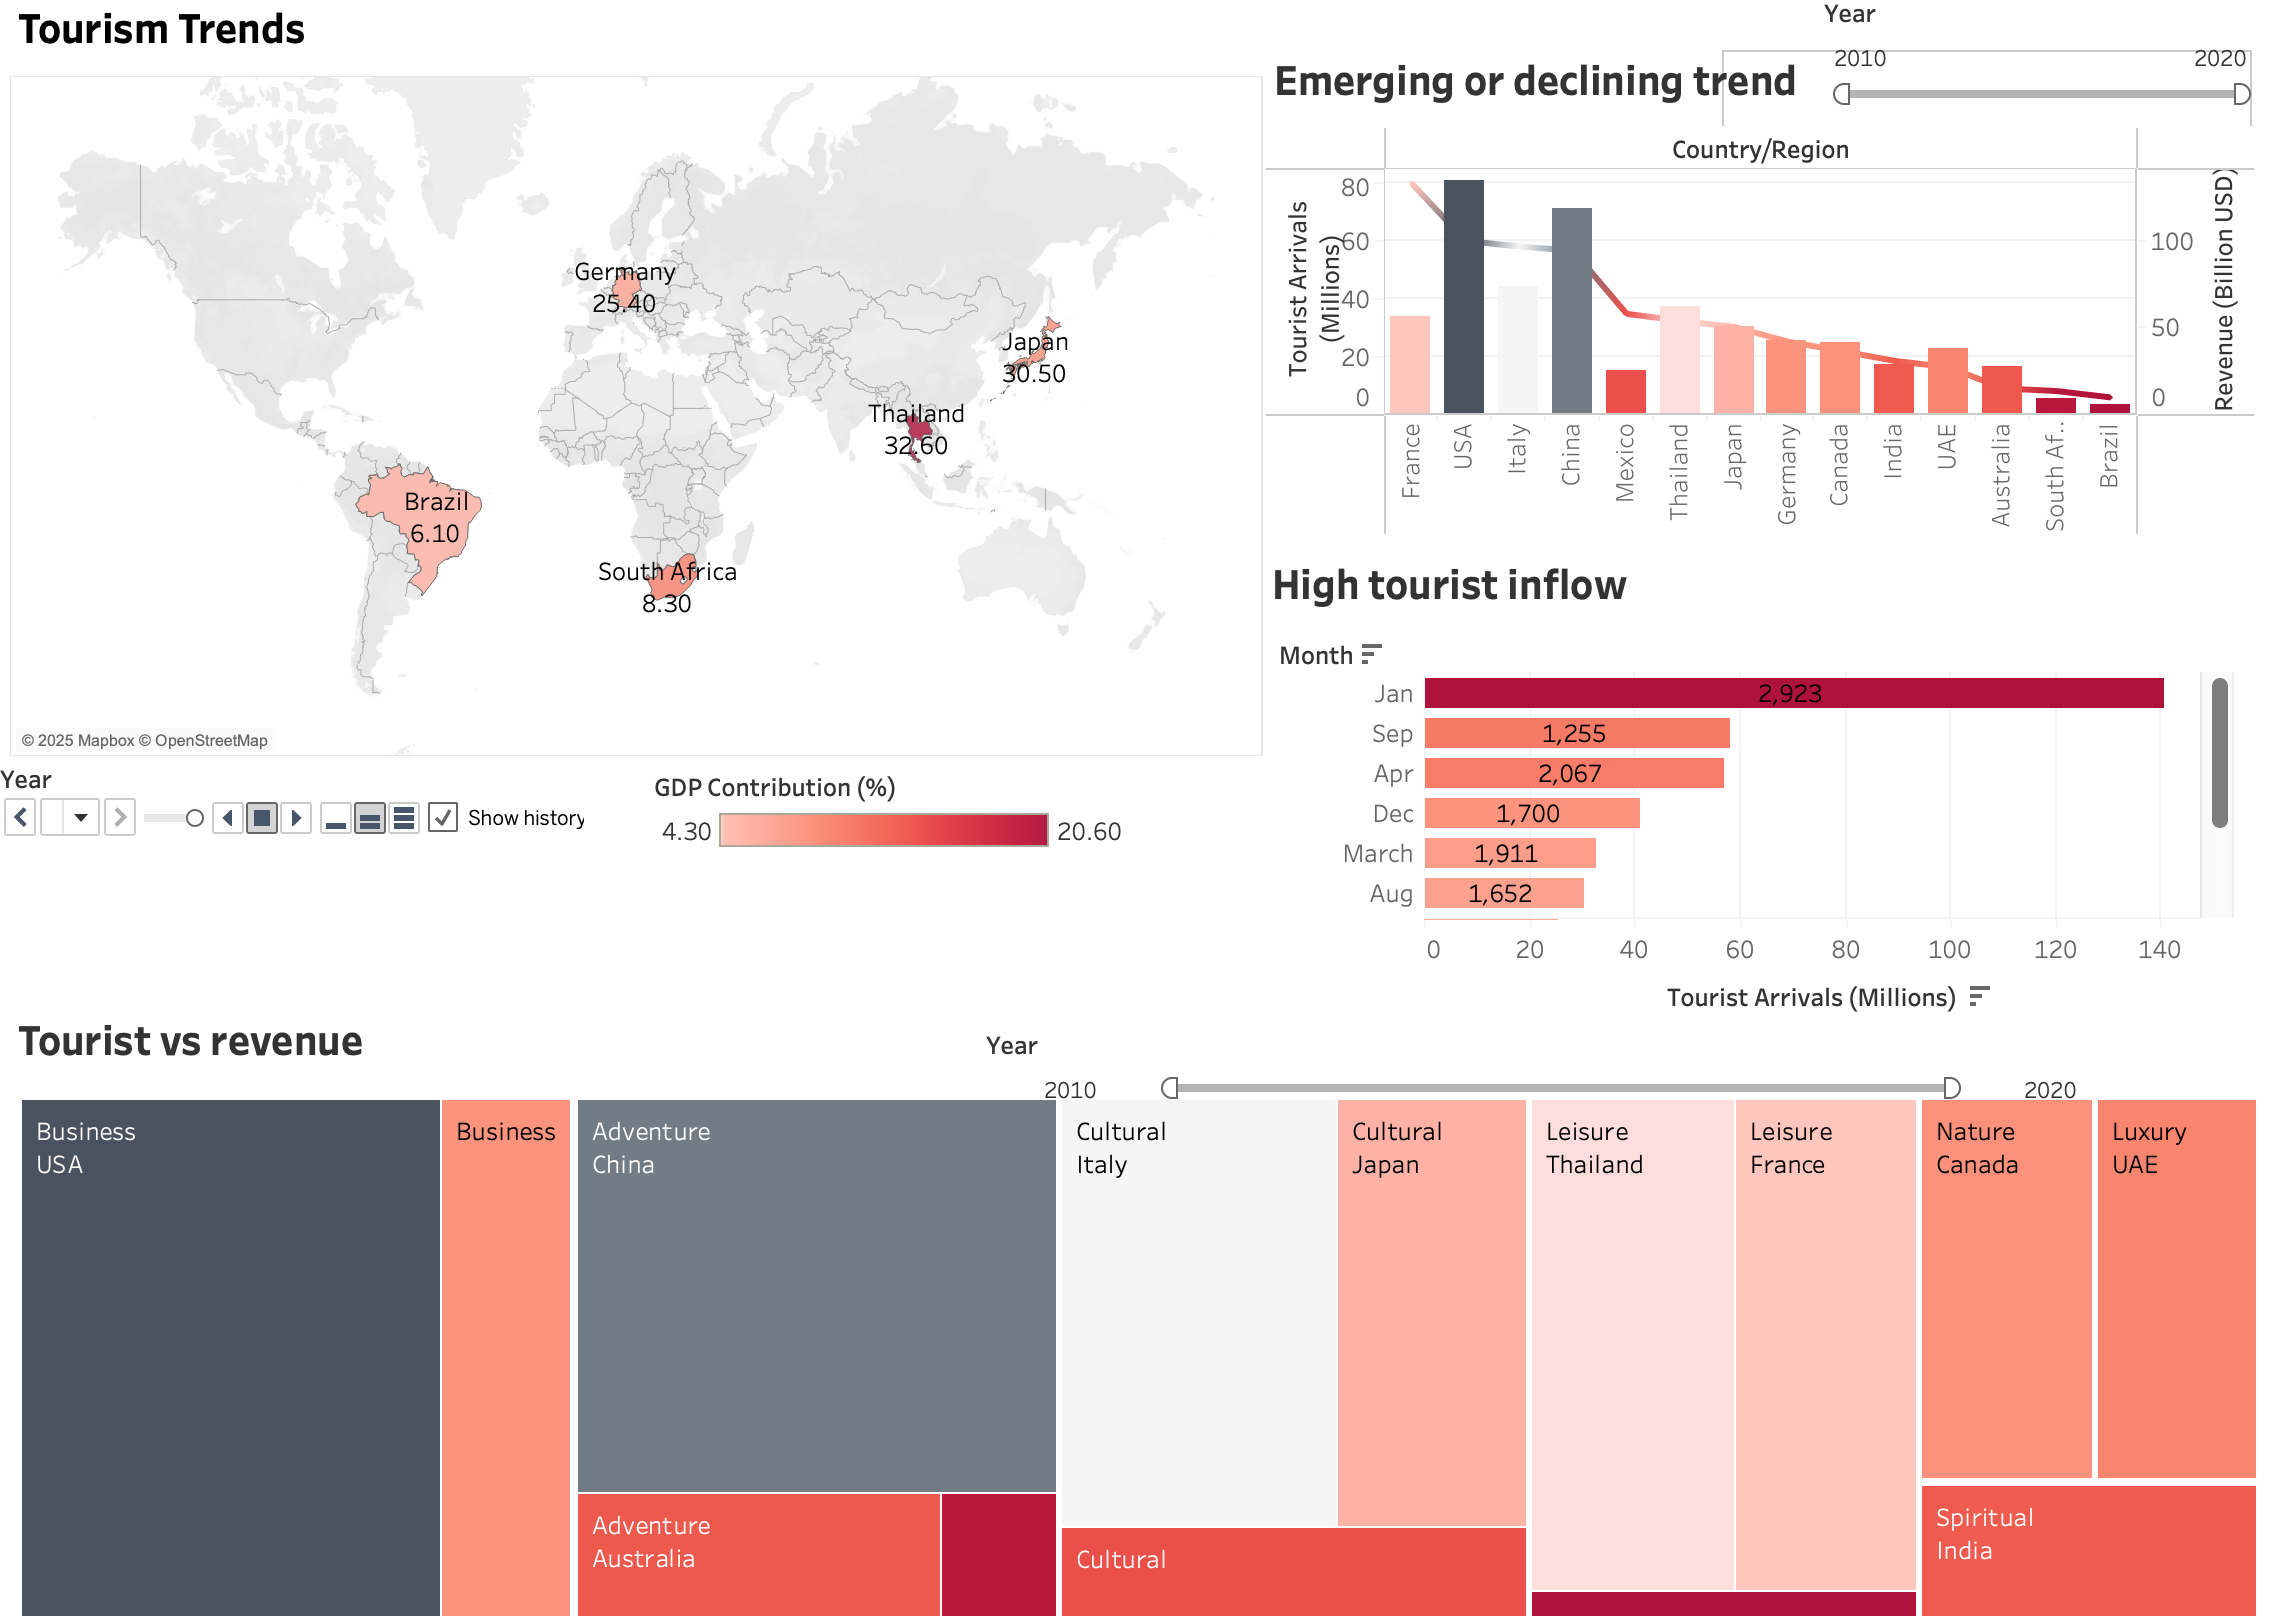

This screenshot's page, from the dashboard's own definition file:
{"tool":"tableau","page":{"name":"Improving Tourism","canvas":[1000,1000],"units":"permille","ordinal":0},"visuals":[{"type":"worksheet","title":"Tourism Trends","mark":"Automatic","box":[15.7,15.2,545.2,461.2]},{"type":"filter","title":"Emerging or declining trend","param":"[federated.0x9cqgt0nqlcwy1f01y6b1exnx1x].[none:Year:qk]","box":[804.4,18.3,189.6,88.3]},{"type":"worksheet","title":"Emerging or declining trend","mark":"Automatic","rows":["Tourist Arrivals (Millions)","Revenue (Billion USD)"],"cols":["Country/Region"],"box":[561.7,47.2,430.4,296.8]},{"type":"worksheet","title":"High tourist inflow","mark":"Automatic","rows":["Month"],"cols":["Tourist Arrivals (Millions)"],"box":[560.9,350.1,421.7,289.2]},{"type":"currpage","title":"Tourism Trends","box":[11.3,479.4,253.9,100.5]},{"type":"legend","title":"Tourism Trends","param":"[federated.0x9cqgt0nqlcwy1f01y6b1exnx1x].[sum:GDP Contribution (%):qk]","box":[295.7,484,207.8,77.6]},{"type":"worksheet","title":"Tourist vs revenue","mark":"Automatic","box":[15.7,625.6,980.9,375.9]},{"type":"filter","title":"Tourist vs revenue","param":"[federated.0x9cqgt0nqlcwy1f01y6b1exnx1x].[none:Year:qk]","box":[440,639.3,500,54.8]}]}

Visuals, with their boxes on the dashboard's canvas, which has no fixed pixel size, in thousandths of its width and height (x1, y1, x2, y2). These are canvas units, not pixel positions in the 2272x1620 screenshot, which may show the page scaled, cropped or inside an application window:
"Tourism Trends" worksheet: x1=16, y1=15, x2=561, y2=476
"Emerging or declining trend" filter: x1=804, y1=18, x2=994, y2=107
"Emerging or declining trend" worksheet: x1=562, y1=47, x2=992, y2=344
"High tourist inflow" worksheet: x1=561, y1=350, x2=983, y2=639
"Tourism Trends" currpage: x1=11, y1=479, x2=265, y2=580
"Tourism Trends" legend: x1=296, y1=484, x2=504, y2=562
"Tourist vs revenue" worksheet: x1=16, y1=626, x2=997, y2=1002
"Tourist vs revenue" filter: x1=440, y1=639, x2=940, y2=694
